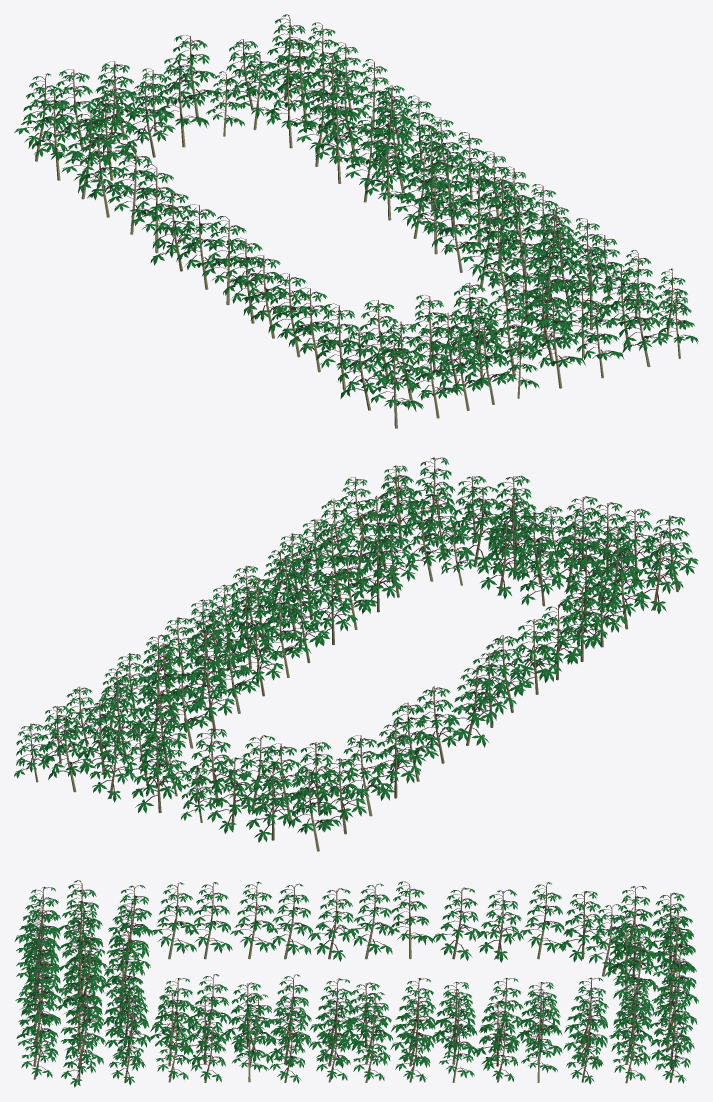
Rendered from Tanaman Singkong 1.fbx.
The picture shows the model from 3 angles, top to bottom: view 1: azimuth 30°, elevation 25°; view 2: azimuth 150°, elevation 25°; view 3: azimuth 270°, elevation 25°; orthographic projection. The views are drawn at different scales.
Visible parts, largest first — view 1: Plane.071; view 2: Plane.071; view 3: Plane.071.
Boxes of the visible parts, x1=… form: Plane.071: x1=14, y1=14, x2=698, y2=428; Plane.071: x1=14, y1=457, x2=698, y2=851; Plane.071: x1=14, y1=880, x2=698, y2=1087.
Bounding box in the file's own units: 979 × 227 × 1926.
